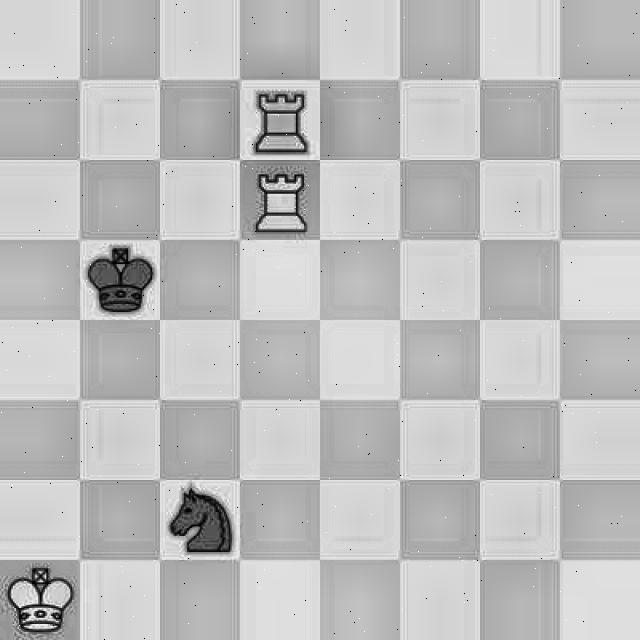Black Knight: (163, 485, 236, 557)
black king: (84, 244, 154, 316)
white king: (5, 560, 75, 634)
white rook: (246, 81, 318, 156), (253, 158, 315, 240)
